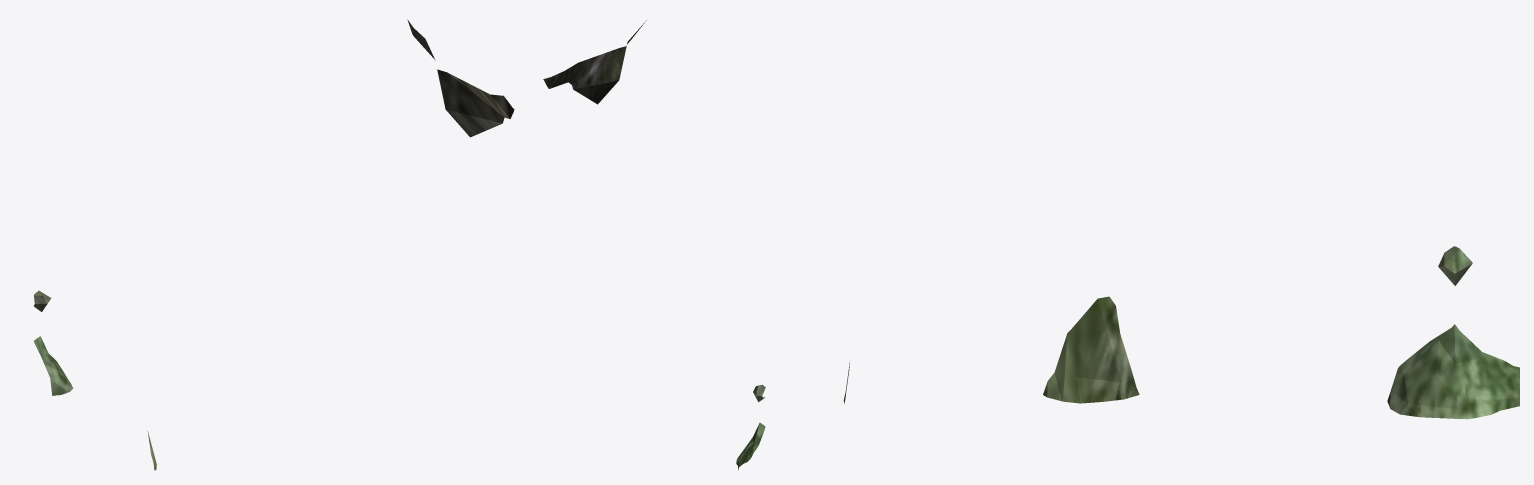
3 views of the same model, side by side, from view 1: azimuth 30°, elevation 25°; view 2: azimuth 150°, elevation 25°; view 3: azimuth 270°, elevation 25° (orthographic). The views are drawn at different scales.
Size of the model in its own units: 2.95 by 2.95 by 2.95.
Materials: 1 (1 with a texture image).
